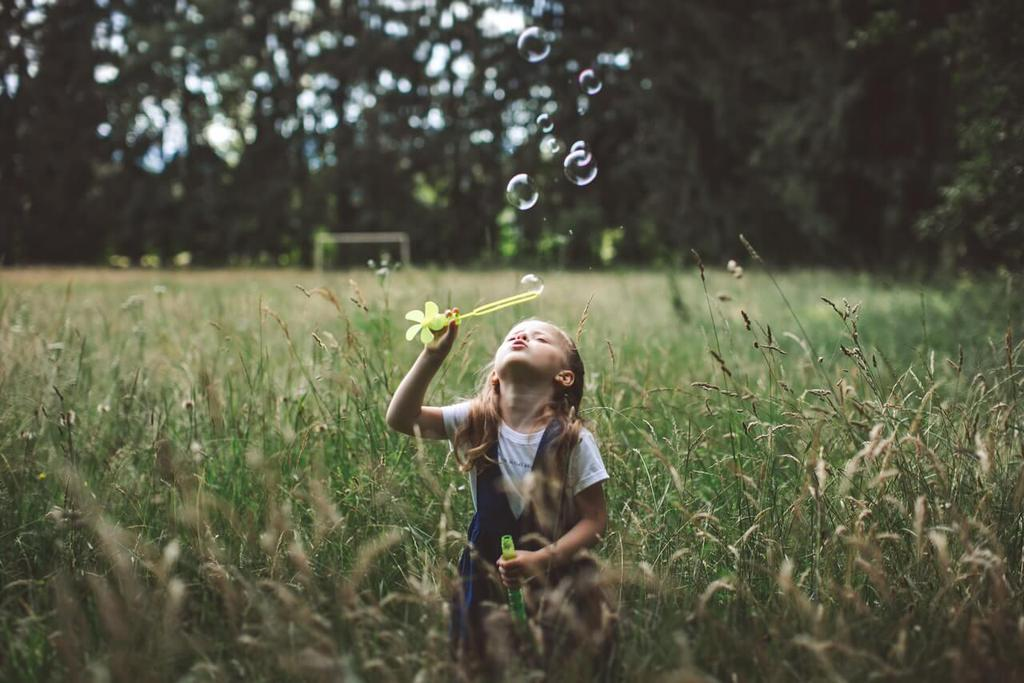child: (377, 279, 637, 676)
